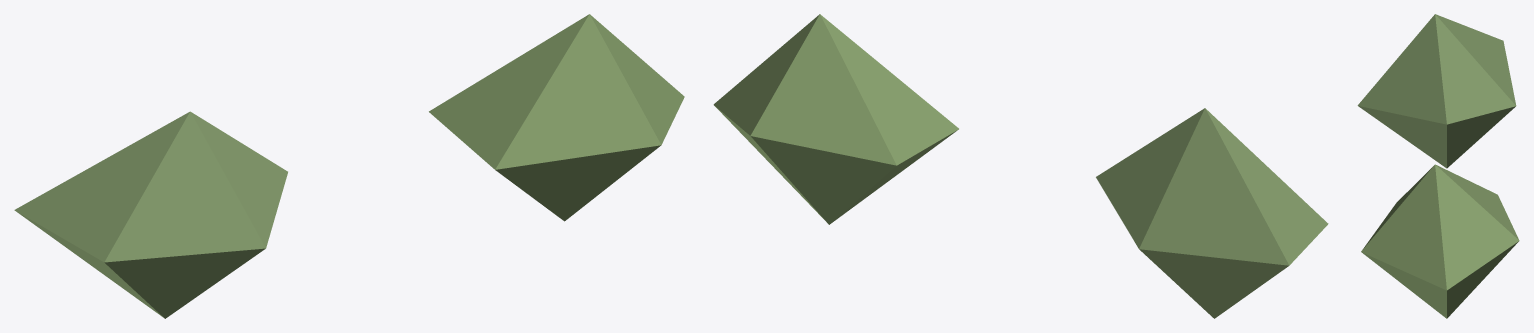
3 renders of one model, left to right at view 1: azimuth 30°, elevation 25°; view 2: azimuth 150°, elevation 25°; view 3: azimuth 270°, elevation 25°, orthographic. The views are drawn at different scales.
Size of the model in its own units: 4.76 by 1.5 by 1.37.
